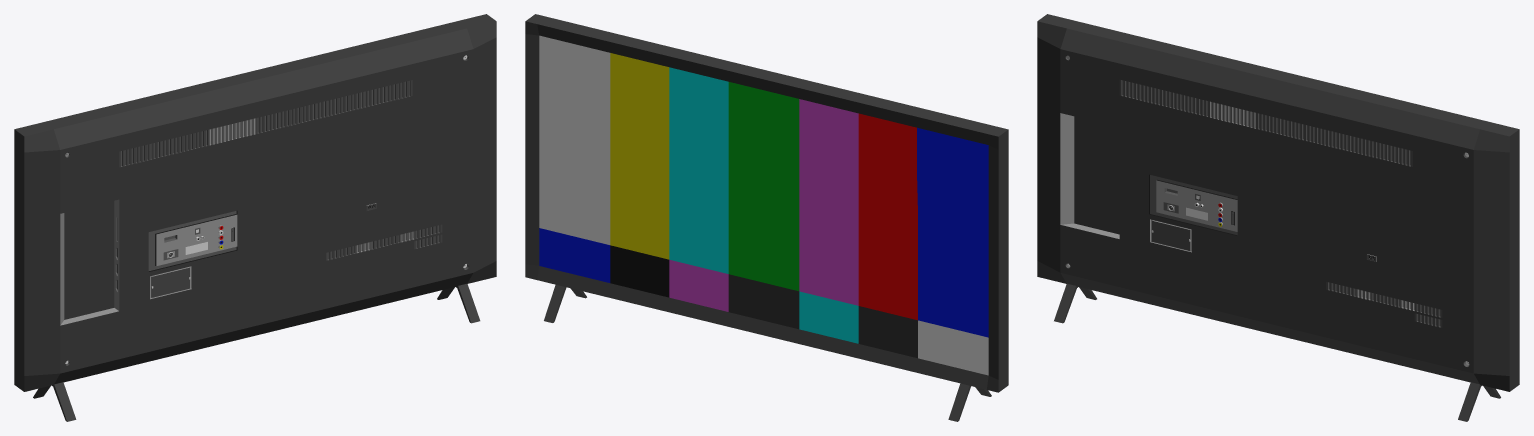
3 renders of one model, left to right at view 1: azimuth 30°, elevation 25°; view 2: azimuth 150°, elevation 25°; view 3: azimuth 330°, elevation 25°, orthographic.
Parts seen in each view (by area): view 1: Object_10, Object_5, Object_7, Object_6; view 2: Object_10, Object_2, Object_8, Object_11, Object_15, Object_14, Object_18, Object_17, Object_16, Object_13; view 3: Object_10, Object_5, Object_7, Object_6.
Boxes of the visible parts, x1=… form: Object_10: x1=14, y1=14, x2=496, y2=421; Object_5: x1=65, y1=80, x2=469, y2=365; Object_7: x1=60, y1=118, x2=414, y2=325; Object_6: x1=119, y1=55, x2=468, y2=297; Object_10: x1=525, y1=14, x2=1008, y2=421; Object_2: x1=539, y1=35, x2=988, y2=375; Object_8: x1=539, y1=127, x2=988, y2=337; Object_11: x1=669, y1=67, x2=858, y2=343; Object_15: x1=669, y1=99, x2=858, y2=311; Object_14: x1=728, y1=82, x2=799, y2=291; Object_18: x1=610, y1=53, x2=669, y2=259; Object_17: x1=858, y1=113, x2=917, y2=320; Object_16: x1=728, y1=274, x2=917, y2=358; Object_13: x1=610, y1=245, x2=669, y2=297; Object_10: x1=1037, y1=14, x2=1519, y2=421; Object_5: x1=1065, y1=56, x2=1468, y2=366; Object_7: x1=1060, y1=55, x2=1414, y2=310; Object_6: x1=1119, y1=79, x2=1468, y2=327.
Size of the model in its own units: 8.91 by 5.12 by 1.12.
